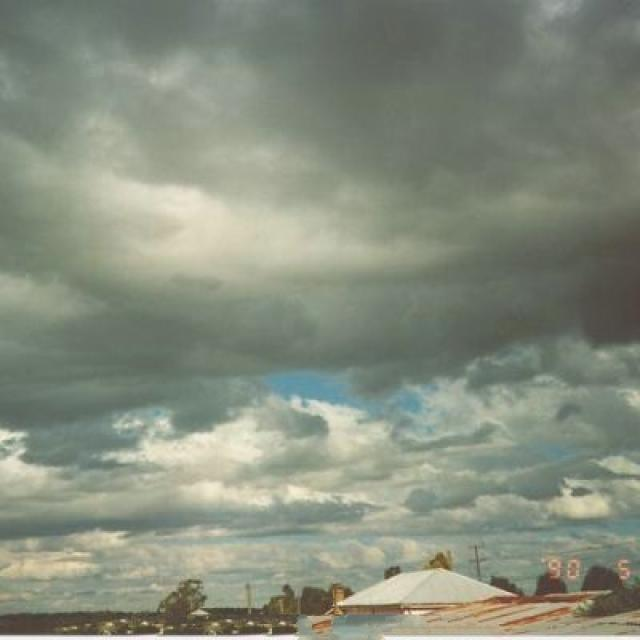Sc: (4, 17, 634, 450)
